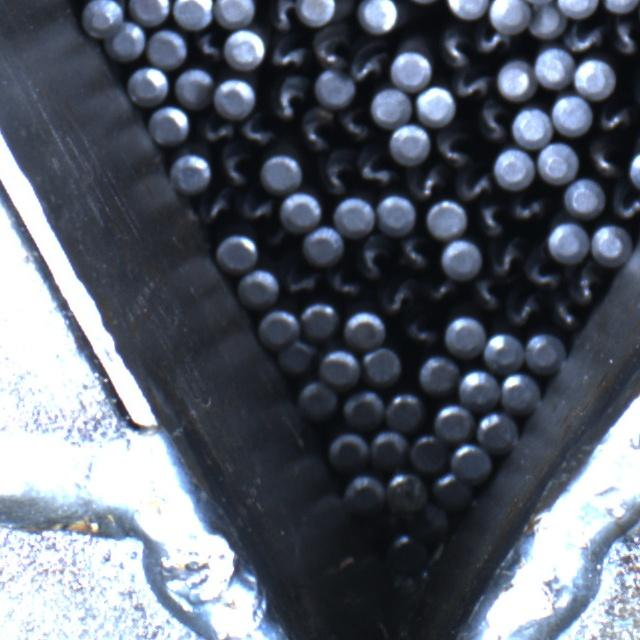tool: (342, 473, 386, 516), (546, 220, 589, 263), (215, 76, 258, 119), (375, 193, 417, 236), (524, 331, 566, 374), (476, 410, 518, 453), (387, 471, 429, 514), (496, 56, 537, 100), (444, 313, 485, 357), (169, 152, 211, 194), (147, 25, 189, 67), (575, 55, 617, 97), (333, 195, 375, 237), (150, 103, 192, 145), (484, 331, 526, 373), (224, 28, 265, 71), (494, 147, 535, 190), (538, 142, 579, 185), (459, 365, 502, 406), (562, 176, 604, 217), (414, 84, 455, 126), (391, 122, 432, 164), (426, 197, 468, 238), (280, 191, 322, 232), (127, 64, 169, 105), (258, 308, 300, 349), (500, 369, 541, 411), (302, 303, 344, 344), (535, 47, 575, 90), (590, 223, 630, 266), (299, 383, 342, 423), (343, 311, 387, 350), (215, 230, 259, 269), (552, 93, 592, 135), (512, 104, 552, 146), (391, 50, 433, 90), (174, 68, 214, 110), (261, 153, 303, 193), (302, 226, 344, 266), (451, 442, 493, 482), (320, 346, 362, 386), (240, 268, 282, 308), (417, 353, 459, 393), (313, 69, 355, 109), (80, 0, 122, 40), (441, 238, 482, 278), (386, 392, 427, 432), (371, 86, 412, 126), (328, 429, 370, 468), (342, 390, 384, 429), (107, 20, 147, 60), (362, 346, 402, 386), (387, 534, 427, 574), (367, 427, 407, 466), (432, 403, 473, 441), (411, 434, 449, 472), (278, 340, 318, 376), (358, 0, 402, 32), (434, 474, 473, 510), (490, 0, 532, 33), (528, 2, 564, 38), (213, 0, 255, 28), (173, 0, 213, 29), (295, 0, 336, 28), (128, 0, 170, 25), (445, 0, 488, 18), (556, 0, 598, 17), (629, 144, 640, 189), (602, 0, 640, 13)
tool_b: (266, 75, 310, 123), (354, 144, 398, 189), (350, 40, 390, 86), (318, 148, 356, 196), (433, 126, 475, 169), (312, 25, 352, 69), (216, 144, 256, 188), (295, 108, 334, 153), (436, 24, 474, 70), (488, 234, 527, 278), (473, 99, 511, 142), (380, 274, 420, 314), (584, 142, 624, 182), (357, 234, 392, 279), (267, 34, 308, 72), (395, 233, 435, 271), (506, 289, 544, 328), (567, 264, 604, 304), (402, 312, 443, 348), (408, 163, 447, 200), (236, 189, 276, 225), (281, 264, 322, 299), (336, 105, 374, 142), (509, 191, 549, 226), (451, 68, 492, 102), (562, 21, 604, 54), (607, 16, 640, 58), (196, 189, 233, 226), (548, 292, 584, 330), (238, 114, 278, 148), (453, 167, 493, 201), (522, 256, 562, 290), (474, 23, 512, 58), (595, 99, 633, 134), (328, 266, 366, 301), (475, 199, 509, 237), (266, 0, 304, 33), (422, 273, 459, 306), (198, 115, 236, 146), (609, 185, 640, 223), (191, 28, 224, 63), (471, 276, 503, 312)
